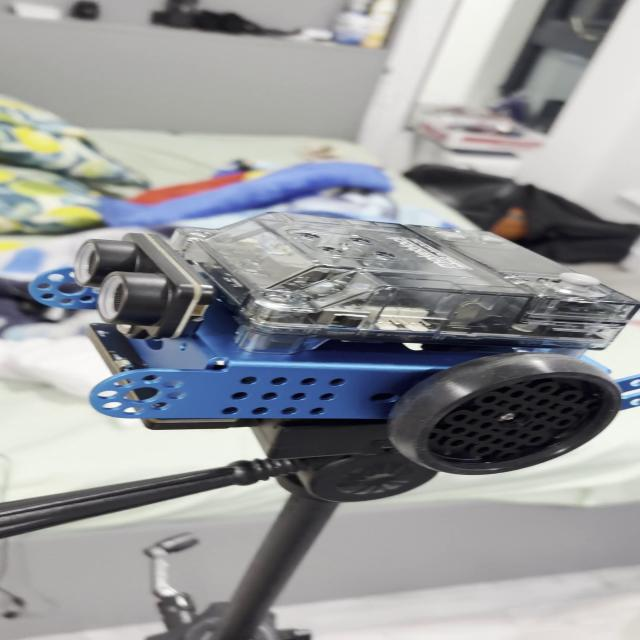mbot-detection: (22, 206, 640, 485)
